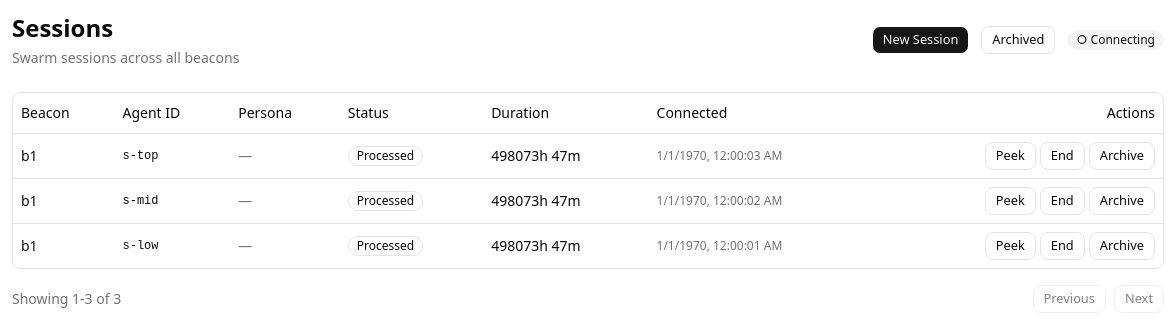
Test: SessionsPage archive actions › pending rows keep their list position
Expected: the text "s-top" is shown, [114,133,230,178]
Click the button "Archive" in the row of "s-mid": (1122, 200) [1089,186,1155,214]
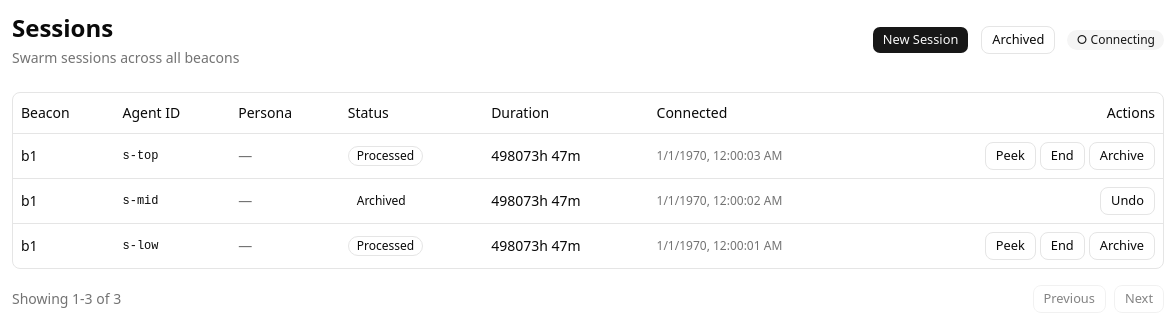
Expected: the button "Undo" is shown, [1100,186,1155,214]
